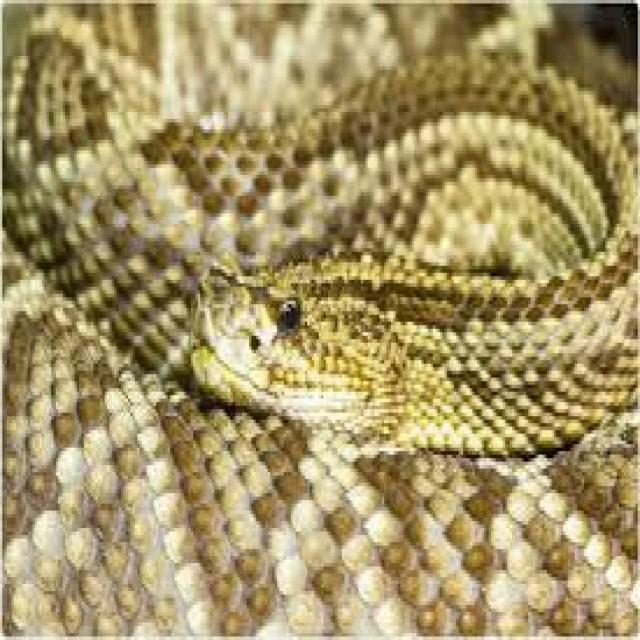snake: (5, 7, 635, 631)
